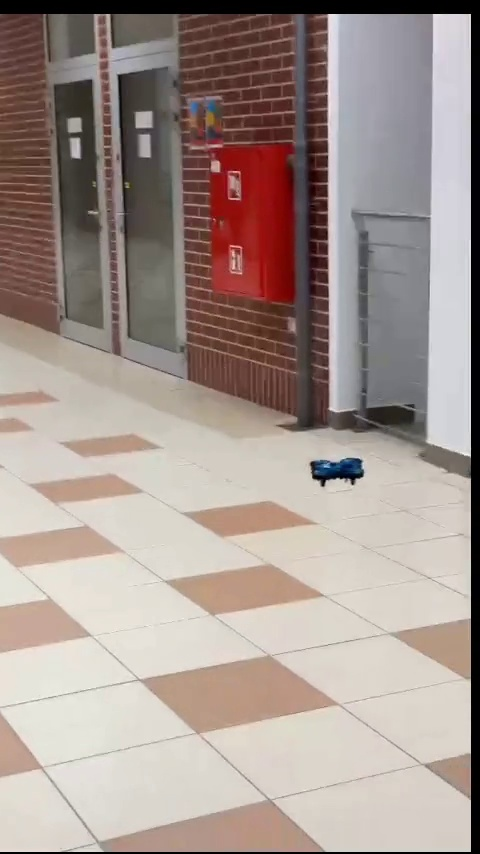drone: (309, 457, 366, 484)
